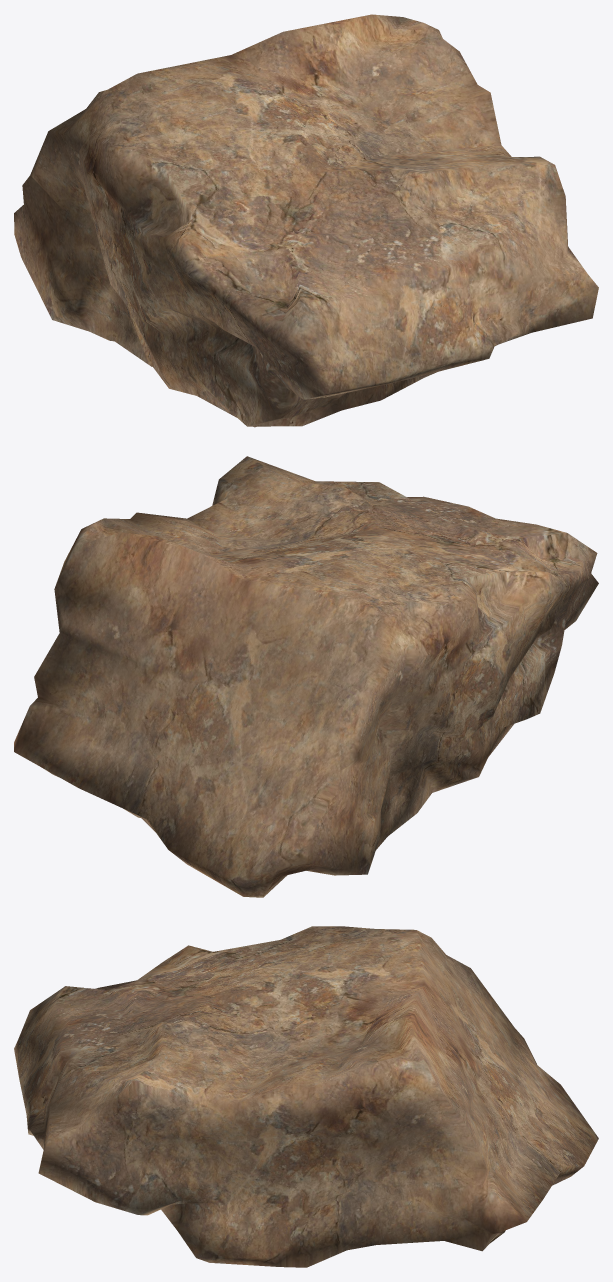
File: rock3.obj
The picture shows the model from 3 angles, top to bottom: view 1: azimuth 30°, elevation 25°; view 2: azimuth 150°, elevation 25°; view 3: azimuth 270°, elevation 25°; orthographic projection. The views are drawn at different scales.
Parts seen in each view (by area): view 1: Rock_7; view 2: Rock_7; view 3: Rock_7.
Boxes of the visible parts, <box> form: Rock_7: <box>14,14,598,427</box>; Rock_7: <box>14,456,598,897</box>; Rock_7: <box>14,926,598,1267</box>.
Bounding box in the file's own units: 4.03 × 2.68 × 5.99.
1 material, 1 textured.
